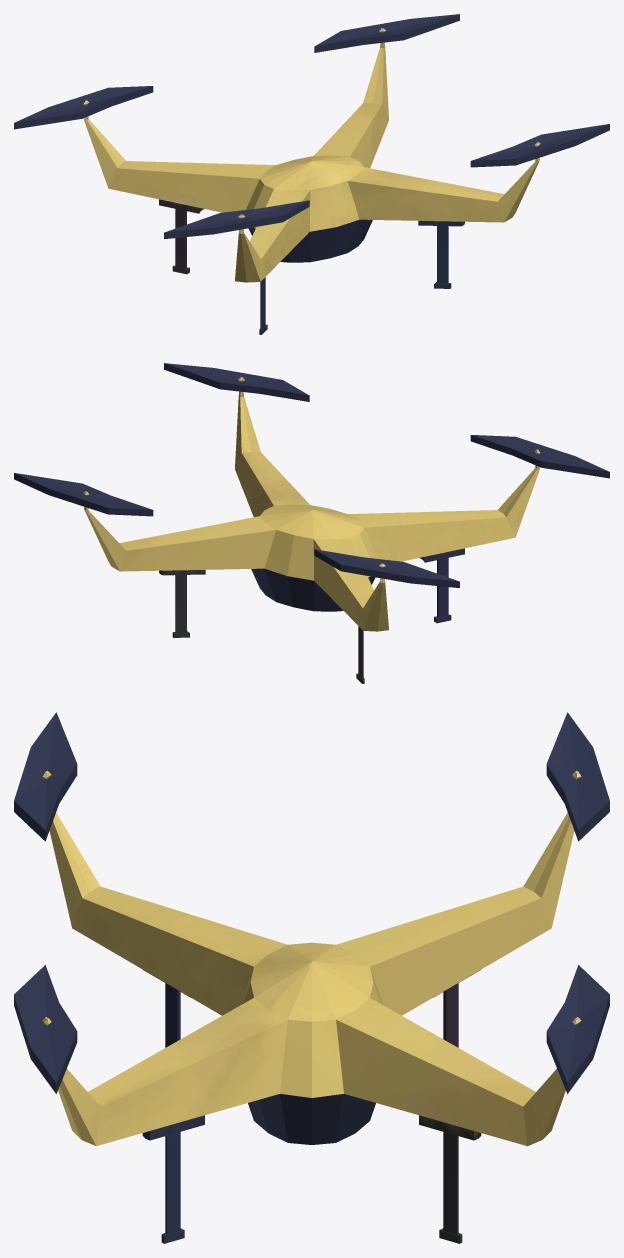
File: drone.glb
The picture shows the model from 3 angles, top to bottom: view 1: azimuth 30°, elevation 25°; view 2: azimuth 150°, elevation 25°; view 3: azimuth 270°, elevation 25°; orthographic projection. The views are drawn at different scales.
Parts seen in each view (by area): view 1: Drone inimigo_0; view 2: Drone inimigo_0; view 3: Drone inimigo_0.
Part boxes in pixels (left/top/right/bottom): Drone inimigo_0: left=14, top=14, right=609, bottom=334; Drone inimigo_0: left=14, top=363, right=609, bottom=683; Drone inimigo_0: left=14, top=712, right=609, bottom=1243.
Size of the model in its own units: 9.69 by 3.29 by 6.58.
Materials: 1 (1 with a texture image).
